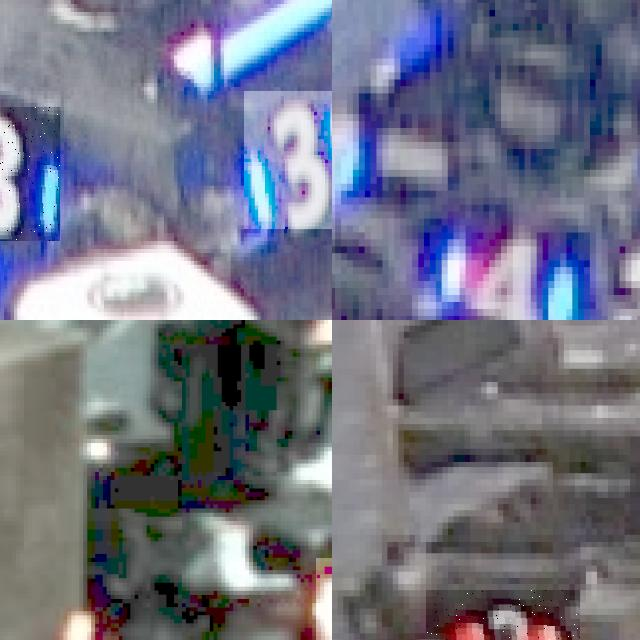B3: (244, 90, 332, 229), (0, 106, 60, 241)
B4: (436, 225, 578, 320)
R2: (425, 590, 580, 640)
